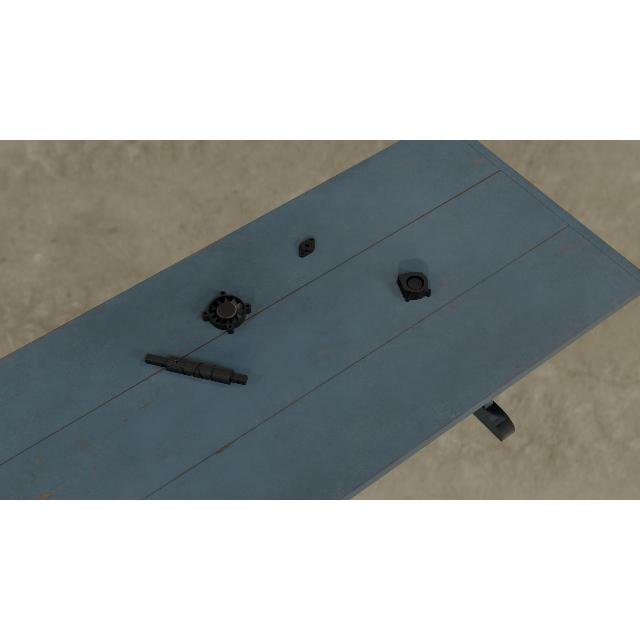Pieza1: (143, 348, 249, 392)
Pieza2: (294, 234, 320, 260)
Pieza3: (397, 268, 433, 304)
Pieza4: (200, 290, 253, 336)
